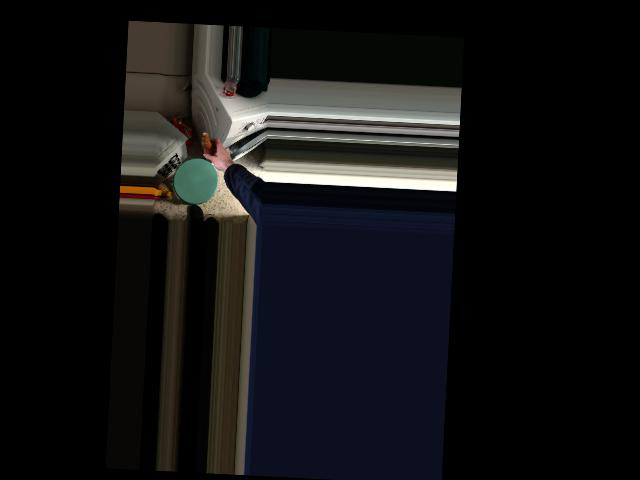sweet_potato: (200, 132, 222, 170)
